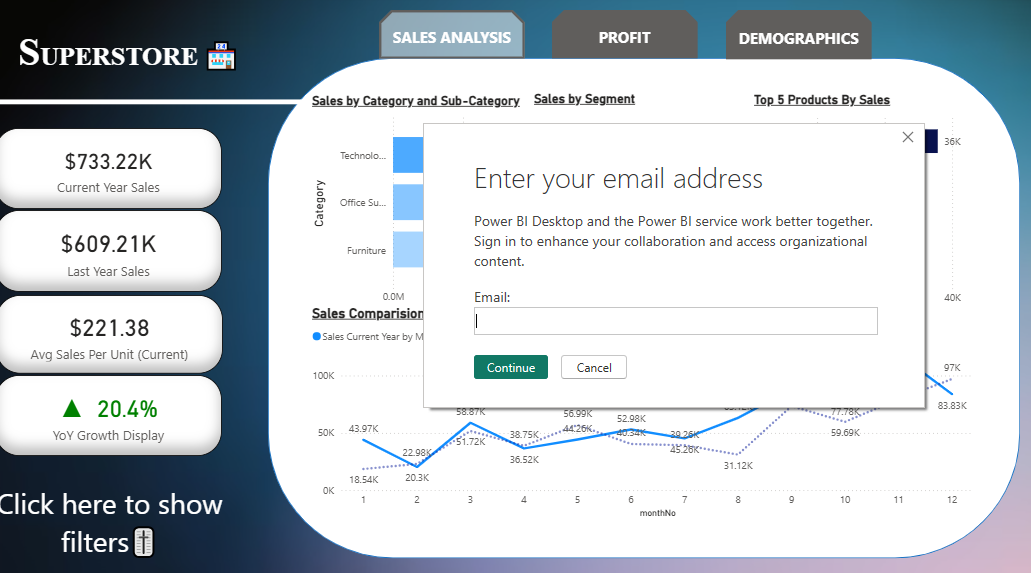

The dashboard page shown, as its layout file describes it:
{"tool":"powerbi","page":{"name":"Sales Analytics","canvas":[1280,720],"ordinal":0},"visuals":[{"type":"actionButton","box":[473.6,17.2,180.1,60.4],"z":0,"group":"g2"},{"type":"clusteredBarChart","title":"Sales by Category and Sub-Category","fields":{"Category":["orders.Category","orders.Sub-Category"],"Y":["Sum(orders.Sales)"]},"box":[386.2,119.7,282.3,270.1],"z":0,"group":"g3"},{"type":"card","fields":{"Values":["orders.current_year"]},"box":[0,162.6,279.9,99.8],"z":0,"group":"g1"},{"type":"shape","box":[1.4,593.2,279.9,110.9],"z":0},{"type":"actionButton","box":[687.2,17.7,179.6,59.6],"z":1000,"group":"g2"},{"type":"donutChart","title":"Sales by Segment","fields":{"Category":["orders.Segment"],"Y":["Sum(orders.Sales)"]},"box":[660.2,117.1,273,274.2],"z":1000,"group":"g3"},{"type":"card","fields":{"Values":["orders.lastYear"]},"box":[0,263.3,279.9,101.2],"z":1000,"group":"g1"},{"type":"actionButton","box":[901.3,17.7,179.6,60.8],"z":2000,"group":"g2"},{"type":"shape","box":[337.1,76.7,928.3,617.6],"z":2000},{"type":"barChart","title":"Top 5 Products By Sales","fields":{"Category":["orders.Product Name"],"Y":["Sum(orders.Sales)"]},"box":[931.9,118,280.5,271.7],"z":2000,"group":"g3"},{"type":"card","fields":{"Values":["orders.avg_sales"]},"box":[1.4,368.3,279.9,97],"z":2000,"group":"g1"},{"type":"group","id":"g1","title":"Group 5","box":[0,162.6,281.3,405.4],"z":3000},{"type":"lineChart","title":"Sales Comparision","fields":{"Y":["orders.Sales Current Year by Month","orders.Sales Last Year by Month"],"Category":["orders.monthNo"]},"box":[386.2,381.4,826.4,267.7],"z":3000,"group":"g3"},{"type":"shape","box":[0,103.1,386.5,54],"z":4000},{"type":"textbox","box":[19.4,36,291,83.2],"z":5000},{"type":"card","fields":{"Values":["orders.YoY Growth Display"]},"box":[0,468,280,100],"z":5000,"group":"g4"},{"type":"group","id":"g2","title":"Group 6","box":[473.6,17.2,607.4,61.4],"z":6000},{"type":"group","id":"g3","title":"Group 4","box":[386.2,117.1,826.4,532],"z":7000},{"type":"group","id":"g4","title":"Group 3","box":[0,468,280,100],"z":7002,"group":"g1"}]}

Visuals, with their boxes in screenshot pixels (x1, y1, x2, y2), scaled from the page's 1280x720 canvas onto the 1031x573 screenshot:
actionButton: bbox=[381, 14, 527, 62]
"Sales by Category and Sub-Category" clusteredBarChart: bbox=[311, 95, 538, 310]
card - orders.current_year: bbox=[0, 129, 225, 209]
shape: bbox=[1, 472, 227, 560]
actionButton: bbox=[554, 14, 698, 62]
"Sales by Segment" donutChart: bbox=[532, 93, 752, 311]
card - orders.lastYear: bbox=[0, 210, 225, 290]
actionButton: bbox=[726, 14, 871, 62]
shape: bbox=[272, 61, 1019, 553]
"Top 5 Products By Sales" barChart: bbox=[751, 94, 977, 310]
card - orders.avg_sales: bbox=[1, 293, 227, 370]
"Group 5" group: bbox=[0, 129, 227, 452]
"Sales Comparision" lineChart: bbox=[311, 304, 977, 517]
shape: bbox=[0, 82, 311, 125]
textbox: bbox=[16, 29, 250, 95]
card - orders.YoY Growth Display: bbox=[0, 372, 226, 452]
"Group 6" group: bbox=[381, 14, 871, 63]
"Group 4" group: bbox=[311, 93, 977, 517]
"Group 3" group: bbox=[0, 372, 226, 452]
